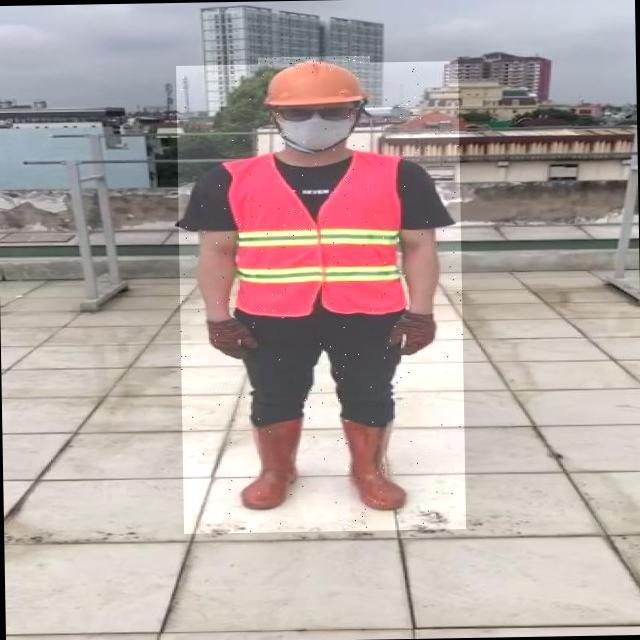Gloves: (201, 315, 257, 362), (380, 316, 441, 357)
Helmet: (258, 56, 371, 108)
Human: (176, 61, 466, 534)
Safety Boot: (339, 413, 407, 511), (242, 417, 301, 510)
Safety Vest: (225, 151, 406, 316)
